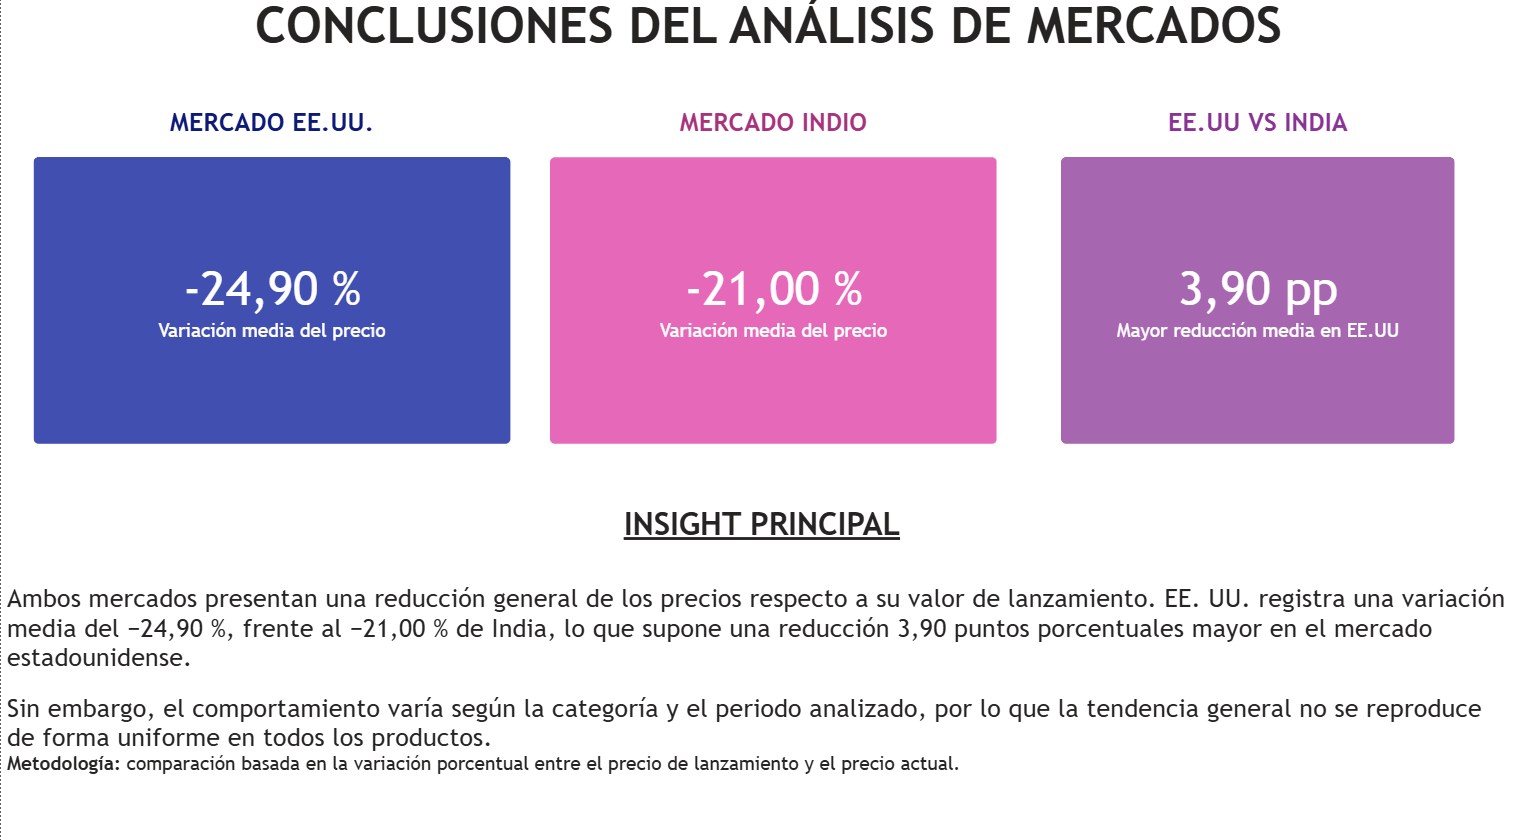

What the dashboard file says about the page in this screenshot:
{"tool":"powerbi","page":{"name":"CONCLUSIONES","canvas":[1280,720],"ordinal":4},"visuals":[{"type":"textbox","box":[10,0,1270,87.5],"z":0},{"type":"textbox","box":[0,428.8,1280,291.2],"z":2000},{"type":"cardVisual","title":"MERCADO EE.UU.","fields":{"Data":["Medidas_creadas.Variación_precio_USD%"]},"box":[10,98.8,435,300],"z":3000},{"type":"cardVisual","title":"MERCADO INDIO","fields":{"Data":["Medidas_creadas.Variación_precio_INR%"]},"box":[445,98.8,410,300],"z":4000},{"type":"cardVisual","title":"EE.UU VS INDIA","fields":{"Data":["Medidas_creadas.DIF_USD_INR %"]},"box":[875,98.8,365,300],"z":5000}]}

Visuals, with their boxes in screenshot pixels (x1, y1, x2, y2), scaled from the page's 1280x720 canvas onto the 1517x840 screenshot:
textbox: <region>12, 0, 1516, 102</region>
textbox: <region>0, 500, 1516, 839</region>
"MERCADO EE.UU." cardVisual: <region>12, 115, 527, 465</region>
"MERCADO INDIO" cardVisual: <region>527, 115, 1013, 465</region>
"EE.UU VS INDIA" cardVisual: <region>1037, 115, 1470, 465</region>
